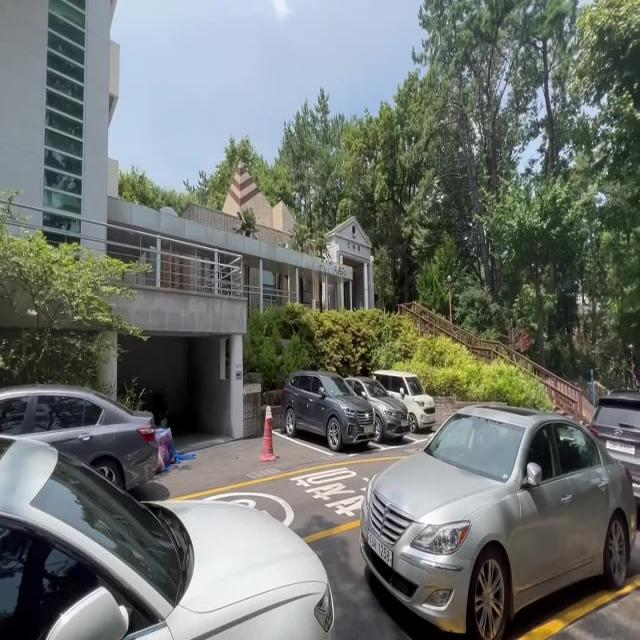building: (206, 183, 374, 315)
